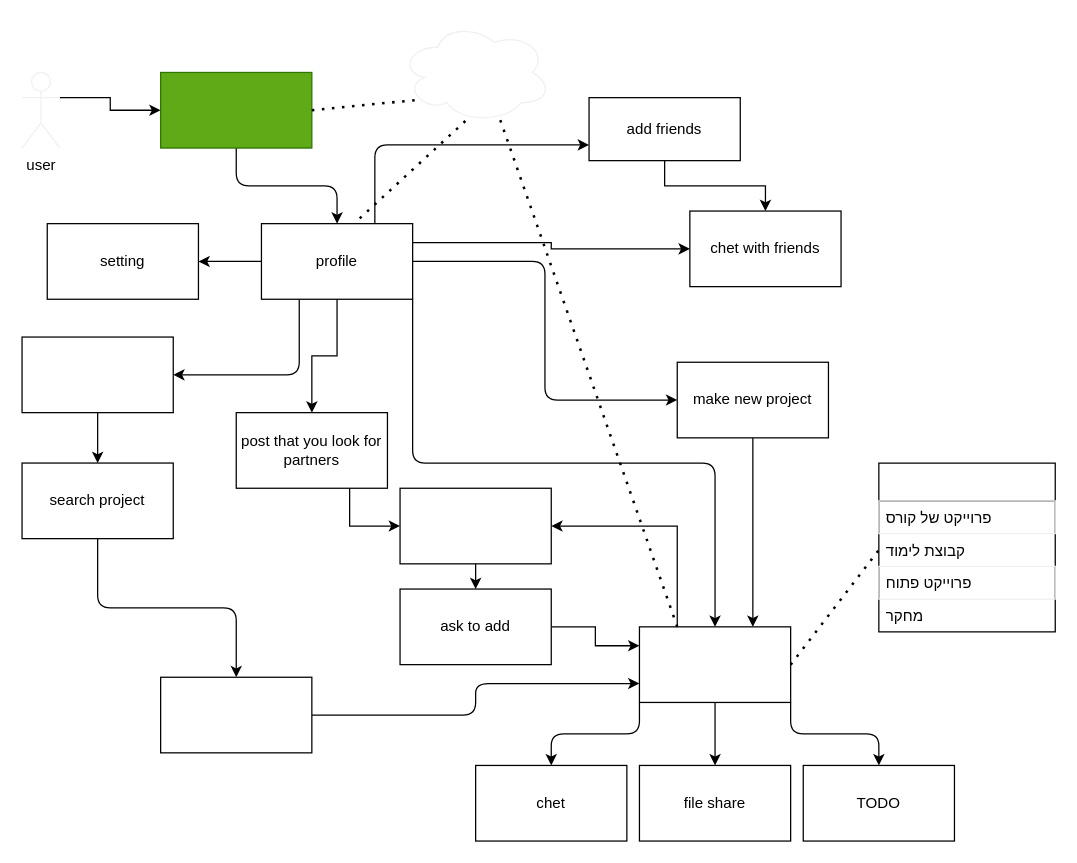
The diagram is 1077 pixels wide and 863 high, and some of its shapes have lost their labels. Here are the shapes that lost their labels. From the top down, the box of each, then its label:
(399, 21, 551, 123): firebase
(159, 71, 312, 148): login
(21, 336, 173, 413): all posted projects
(399, 487, 551, 564): page of peoples asking for partners
(878, 462, 1055, 632): projects types
(638, 626, 791, 702): project
(159, 676, 312, 753): ask to join
